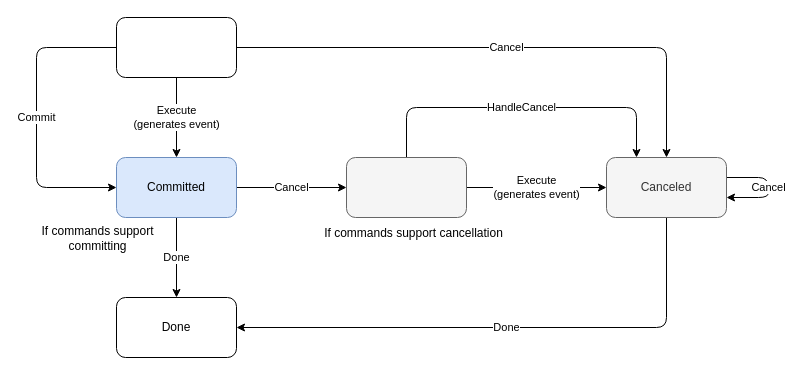
Some shapes in this 802 by 375 pixel diagram are drawn without their labels. Here are the shapes that lost their labels. From the top down, the centre of each, then its label:
At point (176, 47): "Pending".
At point (406, 187): "CancelPending".
